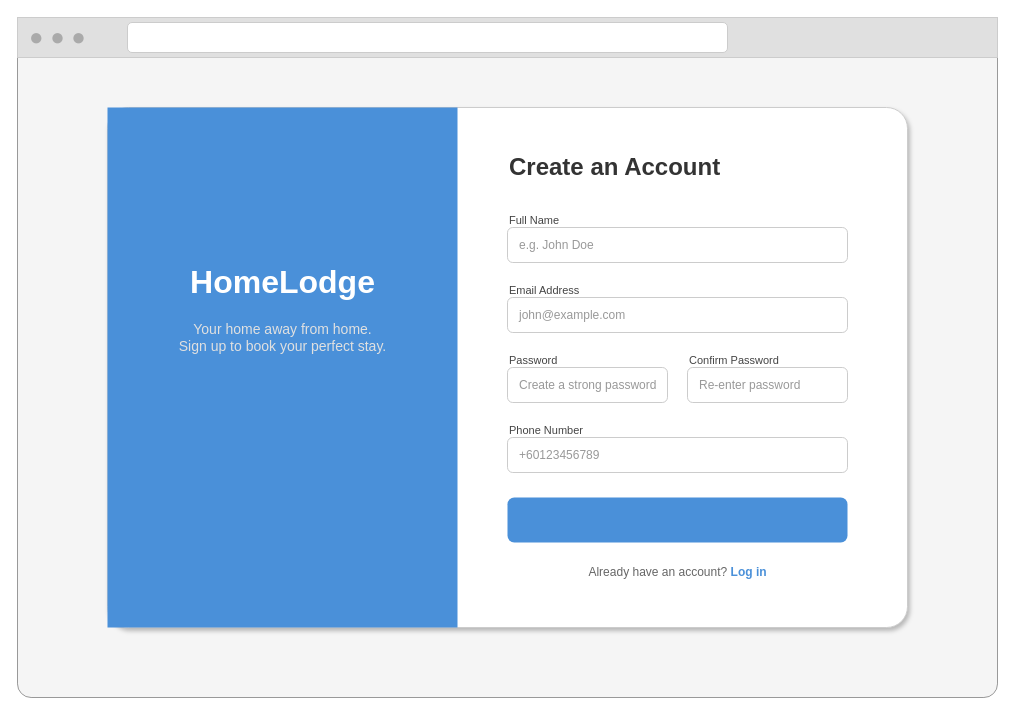
Some shapes in this 1015 by 715 pixel diagram are drawn without their labels. Here are the shapes that lost their labels. From the top down, the centre of each, then its label:
At (427,37): "🔒 https://homelodge.example.com/register".
At (677,519): "Register Account".
